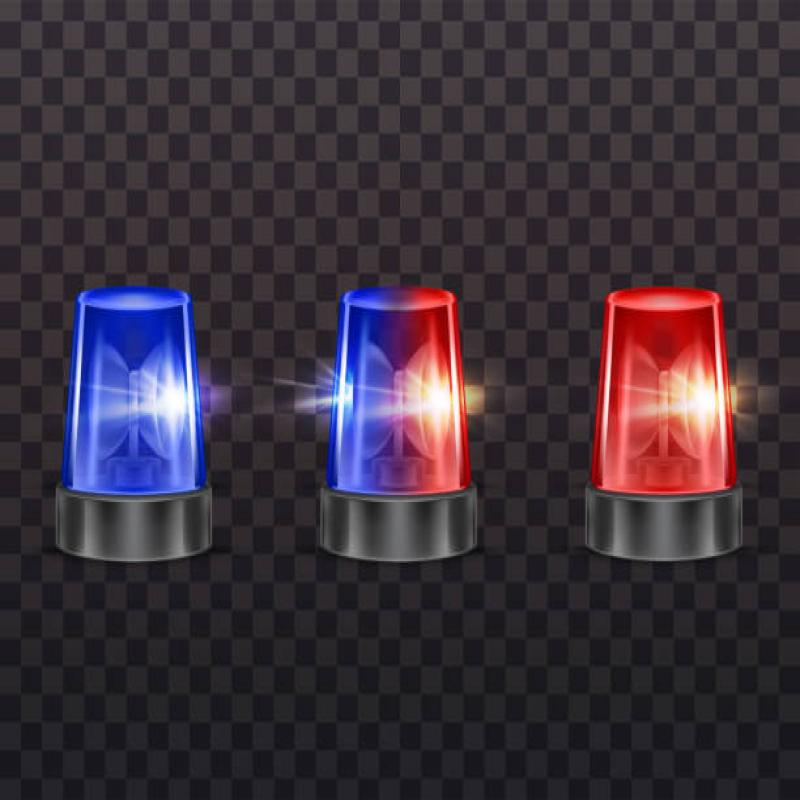AmbulanceSiren: (46, 246, 225, 619), (294, 269, 488, 591), (587, 274, 743, 594)
